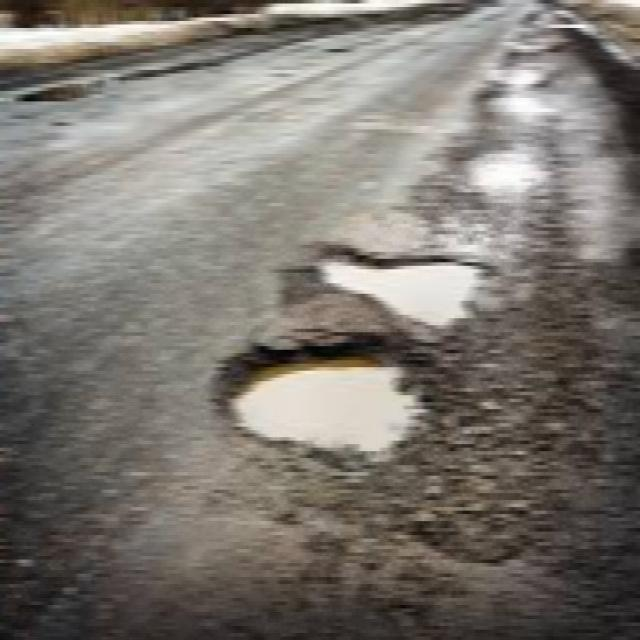Pothole: (200, 323, 429, 475), (282, 228, 488, 344), (443, 131, 565, 213), (493, 11, 583, 81), (12, 77, 117, 111), (476, 81, 558, 119), (309, 45, 350, 55)
